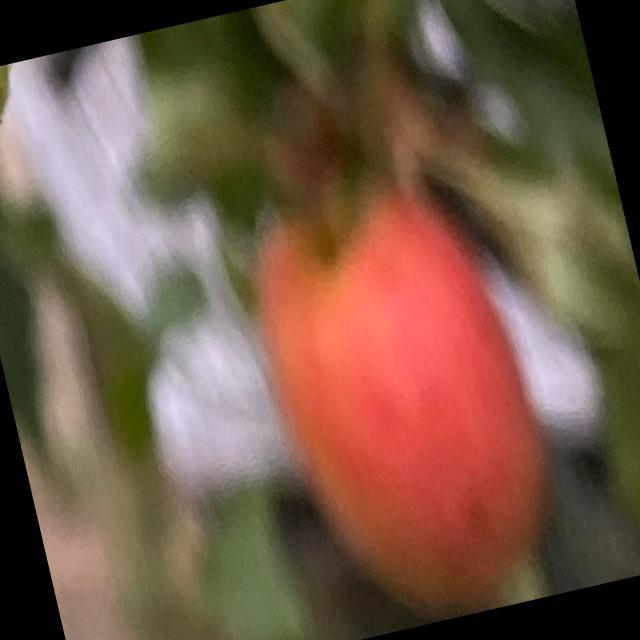100-_ripeness: (236, 170, 574, 639)
